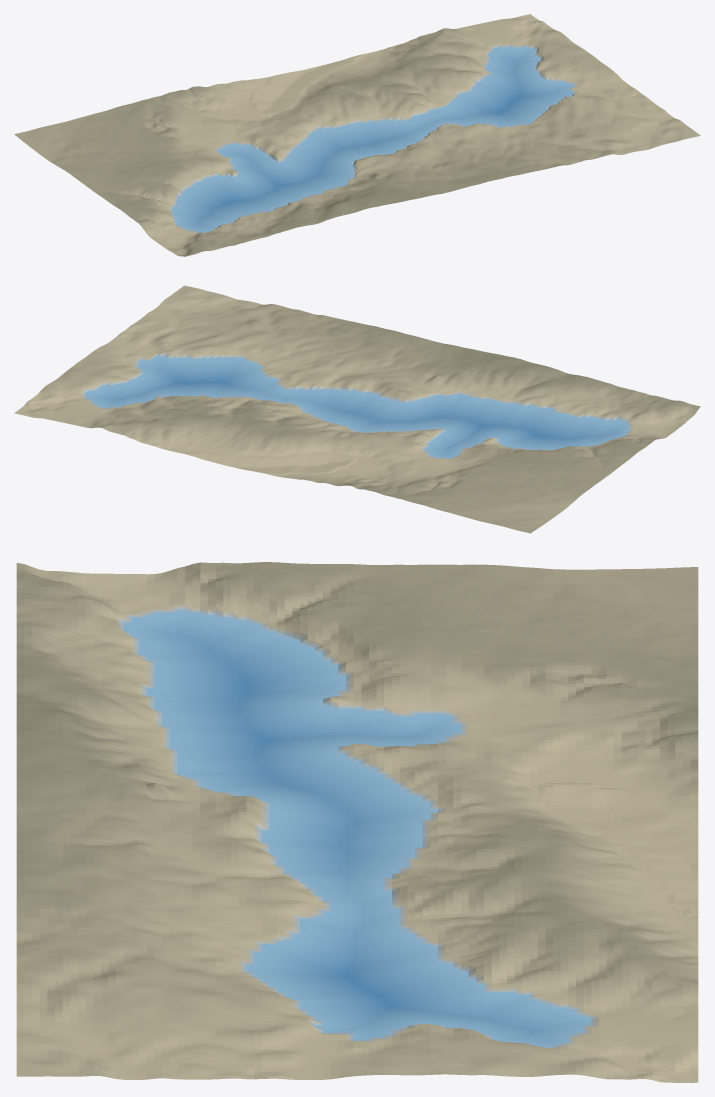
File: lake_geneva_wi.glb
3 renders of one model, top to bottom at view 1: azimuth 30°, elevation 25°; view 2: azimuth 150°, elevation 25°; view 3: azimuth 270°, elevation 25°, orthographic. The views are drawn at different scales.
Visible parts, largest first — view 1: terrain, water; view 2: terrain, water; view 3: terrain, water.
Boxes of the visible parts, x1,y1,x2,y2 form: terrain: [14, 14, 700, 256]; water: [171, 46, 574, 232]; terrain: [14, 285, 700, 533]; water: [84, 355, 630, 458]; terrain: [16, 562, 698, 1082]; water: [123, 609, 591, 1047].
Size of the model in its own units: 13276 by 408 by 7589.
